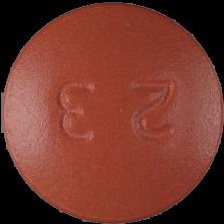62856-247: (0, 0, 224, 224)
